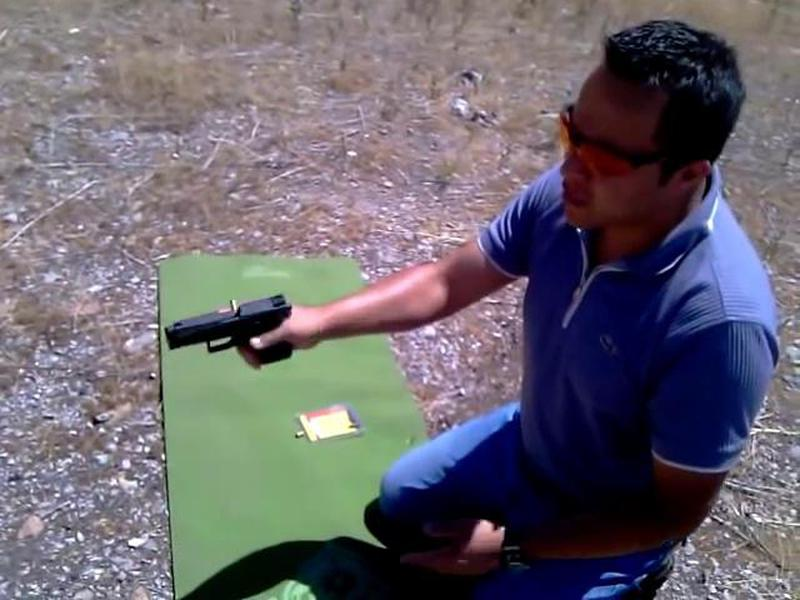Pistola: (154, 284, 307, 376)
